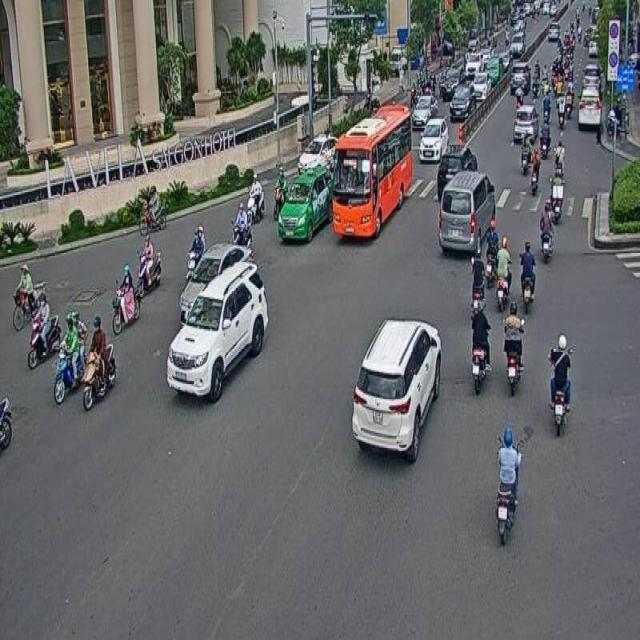bicycle: (12, 262, 36, 332)
bus: (332, 102, 413, 238)
car: (170, 260, 268, 400), (352, 318, 442, 462), (180, 242, 250, 311), (438, 169, 496, 252), (278, 166, 327, 244), (438, 144, 478, 197), (297, 137, 337, 169), (419, 118, 448, 158)
motorcycle: (495, 425, 523, 544), (82, 314, 116, 410), (53, 308, 86, 405), (548, 332, 574, 436), (27, 293, 60, 370), (111, 262, 139, 335), (503, 300, 523, 395), (471, 300, 491, 395), (137, 234, 161, 296), (495, 235, 512, 311), (519, 239, 535, 314), (186, 224, 204, 280), (539, 202, 554, 264), (230, 201, 250, 247), (247, 175, 265, 224)
